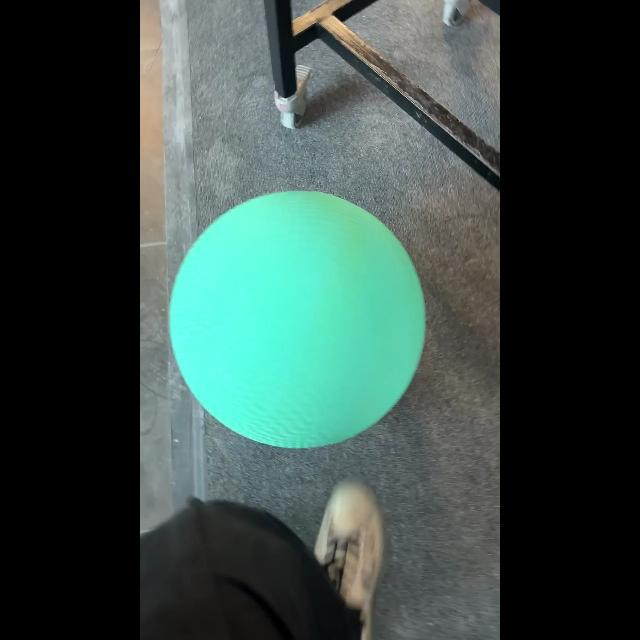ALGAE: (168, 189, 426, 449)
